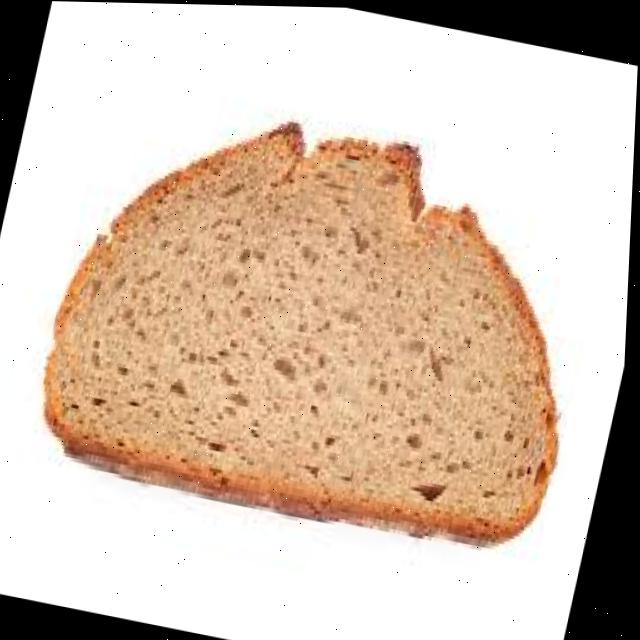Bread: (48, 123, 560, 538)
